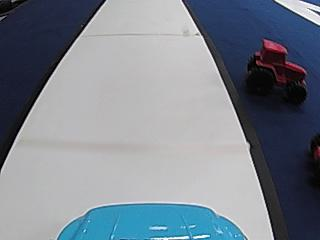Tracktor: (247, 36, 307, 101)
